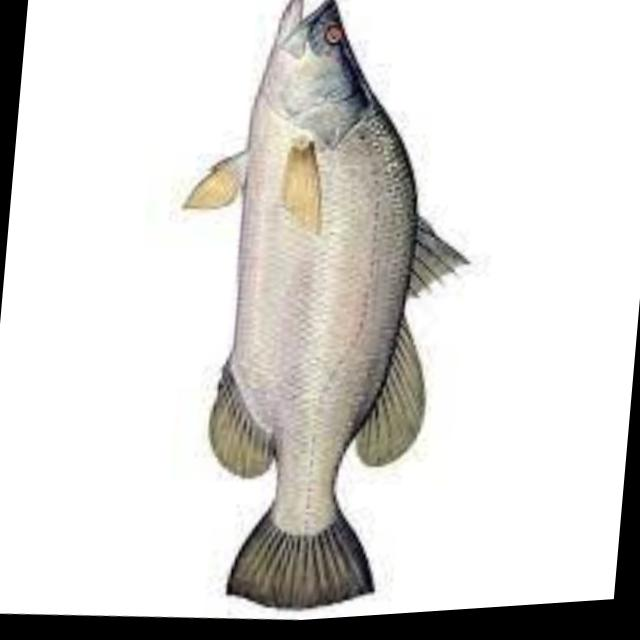Seabass: (148, 0, 497, 630)
